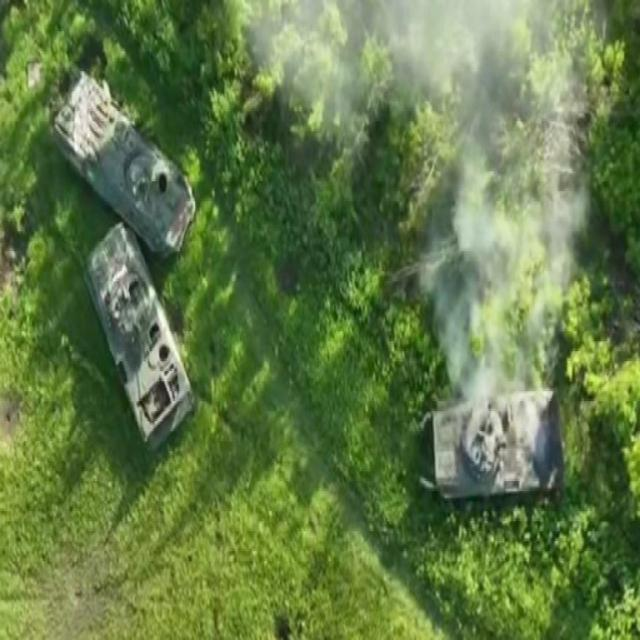APC-IFV: (51, 74, 198, 262), (74, 229, 194, 458), (424, 380, 566, 509)
